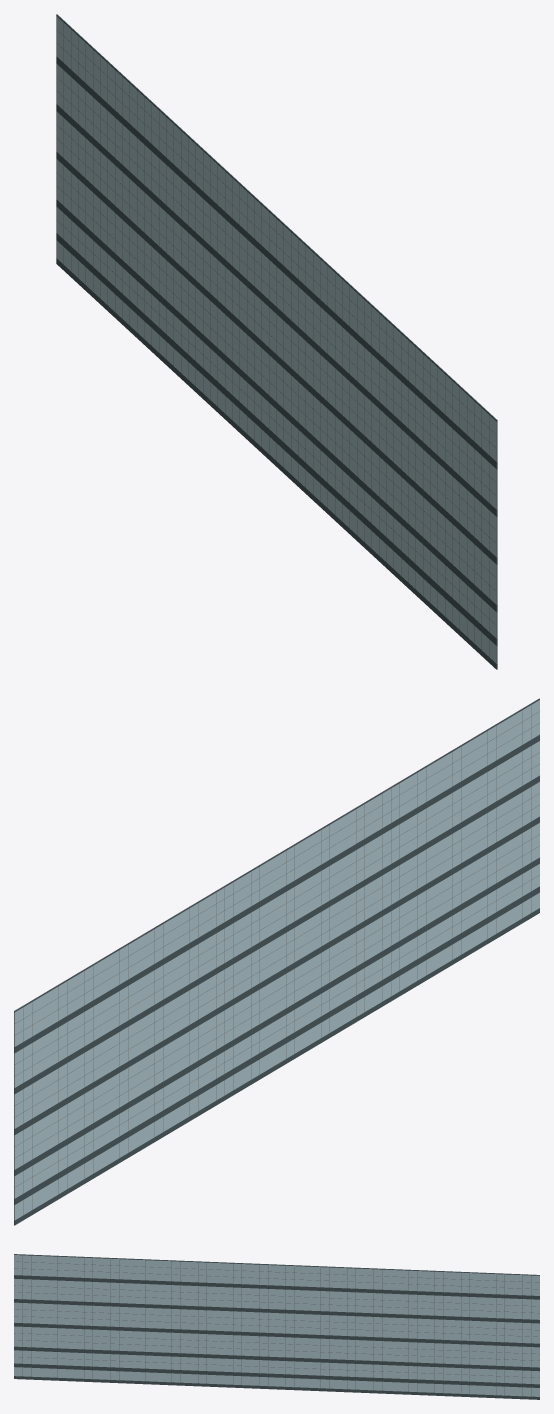
File: G7_Completion_Prior_G7_MiddleExteriorSkin_E10_r001.glb
3 views of the same model, one above another, from view 1: azimuth 30°, elevation 25°; view 2: azimuth 150°, elevation 25°; view 3: azimuth 270°, elevation 25° (orthographic). The views are drawn at different scales.
Parts seen in each view (by area): view 1: G7_MiddleSkin_E10_glazing, G7_MiddleSkin_E10_spandrel, G7_MiddleSkin_E10_joint; view 2: G7_MiddleSkin_E10_glazing, G7_MiddleSkin_E10_spandrel, G7_MiddleSkin_E10_joint; view 3: G7_MiddleSkin_E10_glazing, G7_MiddleSkin_E10_spandrel, G7_MiddleSkin_E10_joint.
Part boxes in pixels (x1,y1,x2,y2): G7_MiddleSkin_E10_glazing: (56, 16, 496, 663); G7_MiddleSkin_E10_spandrel: (56, 14, 497, 669); G7_MiddleSkin_E10_joint: (56, 16, 497, 663); G7_MiddleSkin_E10_glazing: (14, 700, 539, 1220); G7_MiddleSkin_E10_spandrel: (14, 698, 539, 1225); G7_MiddleSkin_E10_joint: (14, 705, 539, 1220); G7_MiddleSkin_E10_glazing: (14, 1255, 539, 1396); G7_MiddleSkin_E10_spandrel: (14, 1254, 539, 1399); G7_MiddleSkin_E10_joint: (14, 1255, 539, 1396).
Size of the model in its own units: 16.16 by 44.5 by 170.
3 materials, 2 textured.
